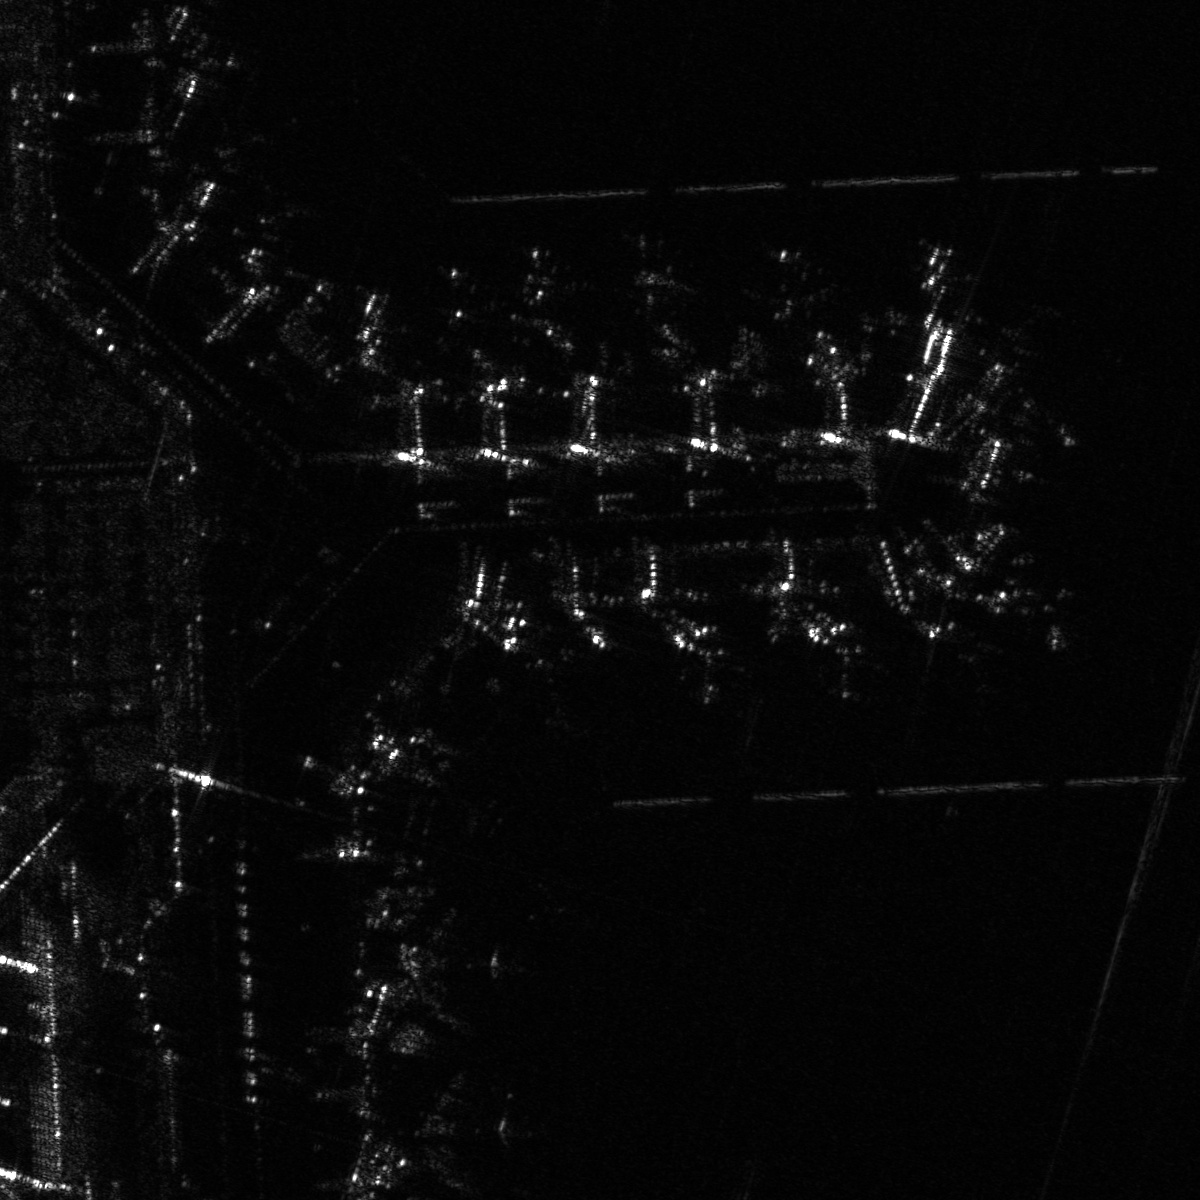A220: (215, 105, 315, 196), (416, 255, 509, 330), (986, 386, 1062, 449), (986, 308, 1049, 376)
A320/321: (354, 1062, 554, 1199), (343, 899, 518, 1038), (729, 240, 851, 325), (800, 608, 890, 707), (600, 227, 700, 310), (965, 549, 1058, 629), (896, 236, 984, 296)
A330: (384, 729, 516, 837)
Boeing737: (913, 612, 998, 674)
Boeing787: (670, 613, 752, 719)
other: (487, 238, 599, 311), (521, 651, 603, 736)
